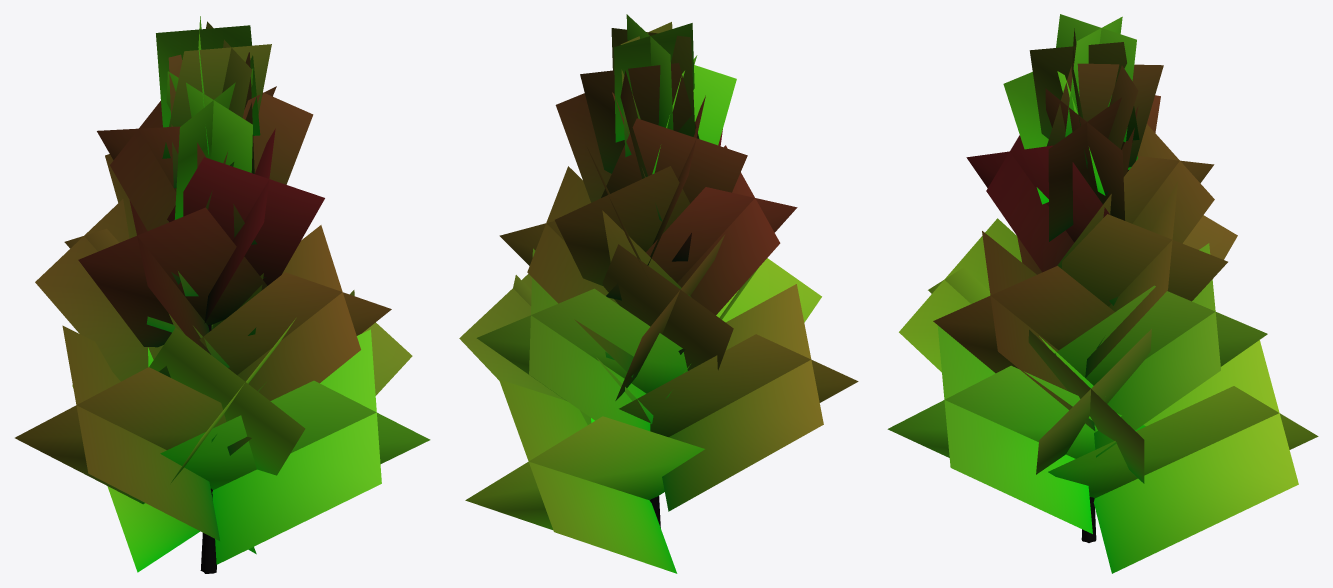
Rendered from Tree_2_4.fbx.
3 renders of one model, left to right at view 1: azimuth 30°, elevation 25°; view 2: azimuth 150°, elevation 25°; view 3: azimuth 270°, elevation 25°, orthographic. The views are drawn at different scales.
Visible parts, largest first — view 1: Tree_2_4; view 2: Tree_2_4; view 3: Tree_2_4.
Part boxes in pixels (box(x1,y1,x2,y2)): Tree_2_4: box(15, 16, 430, 573); Tree_2_4: box(459, 14, 858, 573); Tree_2_4: box(887, 14, 1318, 573).
Size of the model in its own units: 4108 by 5910 by 4435.
